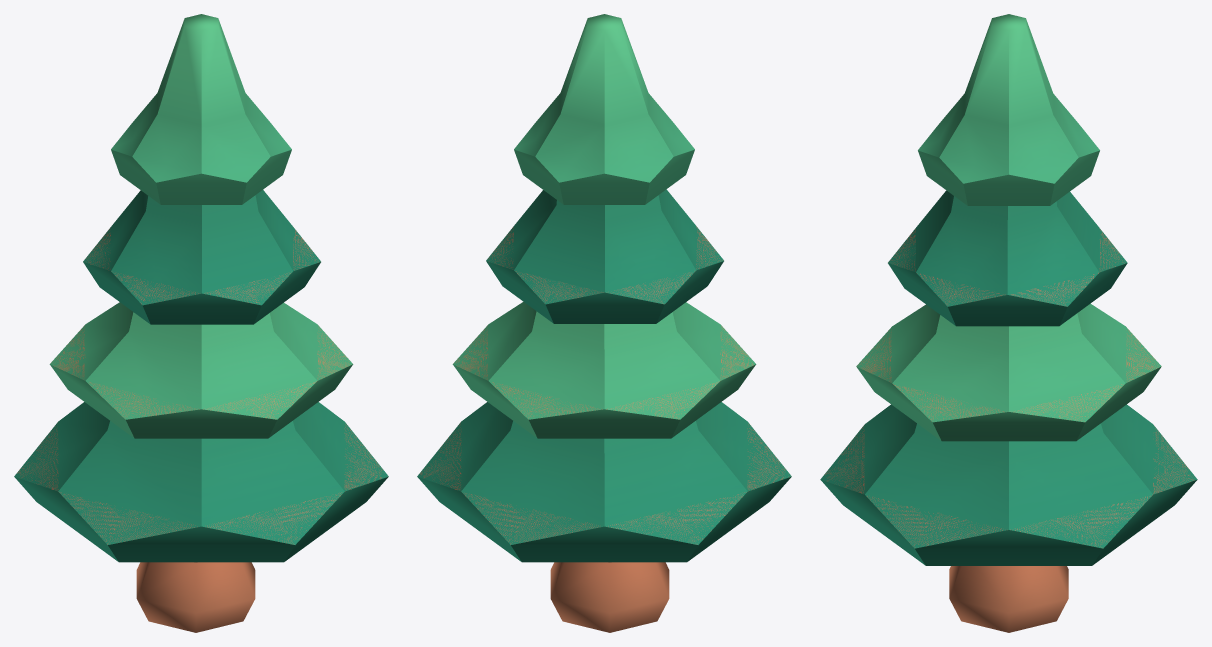
File: cc0-pine-lod0.glb
3 renders of one model, left to right at view 1: azimuth 30°, elevation 25°; view 2: azimuth 150°, elevation 25°; view 3: azimuth 270°, elevation 25°, orthographic.
Visible parts, largest first — view 1: part_0; view 2: part_0; view 3: part_0.
Part boxes in pixels (x1,y1,x2,y2): part_0: (14, 14, 388, 632); part_0: (417, 14, 791, 632); part_0: (820, 14, 1197, 632).
Bounding box in the file's own units: 1.18 × 2.3 × 1.33.
1 material, 1 textured.
